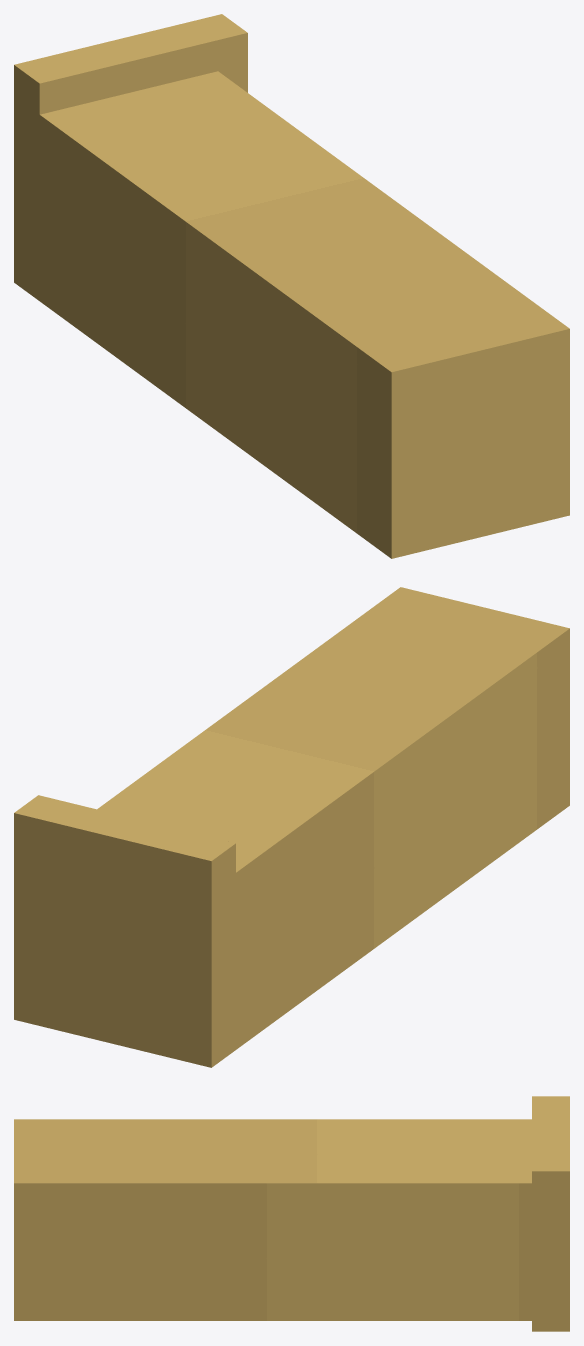
The model's file is bullet_shell.fbx.
3 renders of one model, top to bottom at view 1: azimuth 30°, elevation 25°; view 2: azimuth 150°, elevation 25°; view 3: azimuth 270°, elevation 25°, orthographic. The views are drawn at different scales.
Visible parts, largest first — view 1: cube, cube_1; view 2: cube, cube_1; view 3: cube, cube_1.
Part boxes in pixels (x1=…): cube: x1=14, y1=71, x2=569, y2=558; cube_1: x1=14, y1=14, x2=247, y2=300; cube: x1=42, y1=587, x2=569, y2=1067; cube_1: x1=14, y1=795, x2=235, y2=1067; cube: x1=14, y1=1119, x2=531, y2=1320; cube_1: x1=532, y1=1096, x2=569, y2=1331.
Size of the model in its own units: 4.38 by 4.38 by 13.75.
1 material, 1 textured.
